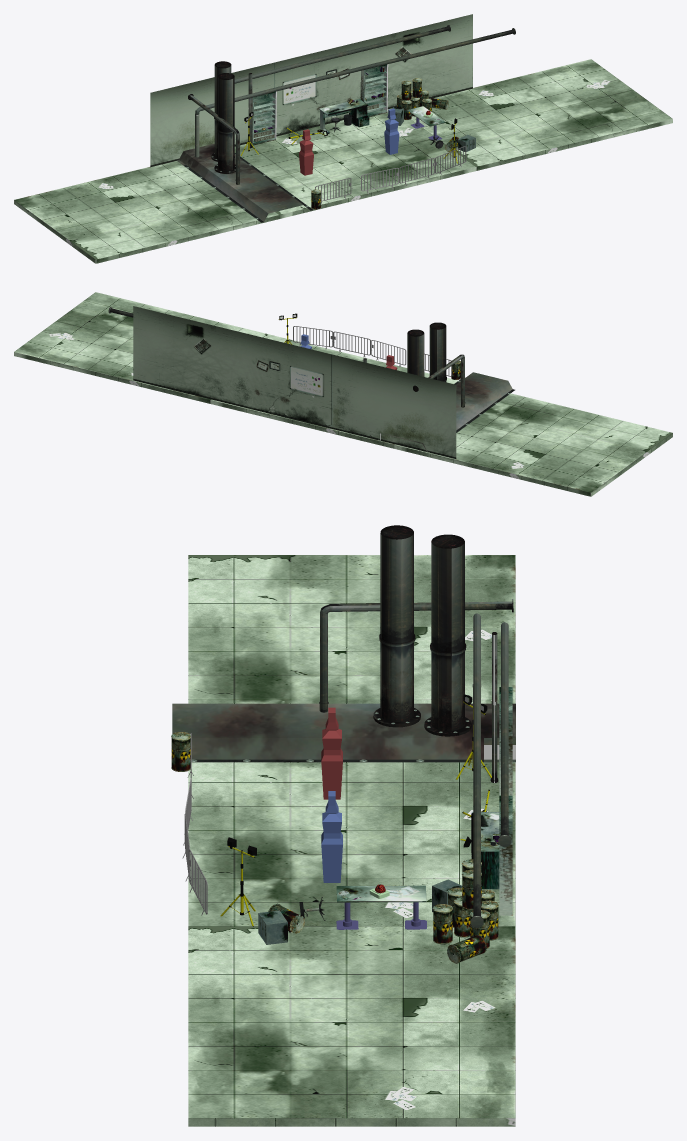
Rendered from escenario1_lab.fbx.
The picture shows the model from 3 angles, top to bottom: view 1: azimuth 30°, elevation 25°; view 2: azimuth 150°, elevation 25°; view 3: azimuth 270°, elevation 25°; orthographic projection. The views are drawn at different scales.
Visible parts, largest first — view 1: wallParet, floor.001, floor.002, floor, metallicFloor, column.001, tube3, table.003, table.002, tube2, table1, column.003 (+4 smaller); view 2: wallParet, floor.002, floor.001, metallicFloor, floor, column.001, column.003, tube, wall3, wall2, wall4; view 3: floor.001, floor, floor.002, metallicFloor, column.001, column.003, tube3, tube, tube2, Character2, Character1, table1 (+4 smaller).
Part boxes in pixels (bbox=[...]): wallParet: bbox=[150, 14, 472, 167]; floor.001: bbox=[396, 59, 672, 170]; floor.002: bbox=[14, 161, 292, 263]; floor: bbox=[234, 108, 475, 215]; metallicFloor: bbox=[176, 143, 312, 222]; column.001: bbox=[214, 73, 235, 173]; tube3: bbox=[195, 28, 515, 157]; table.003: bbox=[360, 64, 388, 116]; table.002: bbox=[252, 91, 276, 145]; tube2: bbox=[234, 25, 450, 83]; table1: bbox=[319, 99, 369, 133]; column.003: bbox=[211, 61, 234, 161]; wallParet: bbox=[133, 306, 456, 458]; floor.002: bbox=[394, 393, 672, 496]; floor.001: bbox=[14, 292, 291, 403]; metallicFloor: bbox=[378, 372, 514, 452]; floor: bbox=[210, 340, 458, 449]; column.001: bbox=[429, 322, 446, 381]; column.003: bbox=[407, 329, 424, 376]; tube: bbox=[413, 354, 465, 407]; wall3: bbox=[333, 331, 370, 357]; wall2: bbox=[371, 340, 406, 367]; wall4: bbox=[293, 326, 334, 349]; floor.001: bbox=[188, 926, 515, 1126]; floor: bbox=[188, 762, 515, 926]; floor.002: bbox=[188, 555, 515, 703]; metallicFloor: bbox=[172, 703, 515, 762]; column.001: bbox=[373, 525, 420, 727]; column.003: bbox=[424, 534, 471, 736]; tube3: bbox=[470, 613, 483, 927]; tube: bbox=[319, 599, 513, 712]; tube2: bbox=[498, 622, 511, 847]; Character2: bbox=[321, 791, 342, 882]; Character1: bbox=[321, 707, 342, 799]; table1: bbox=[471, 812, 499, 889].
Bounding box in the file's own units: 2822 × 489 × 730.
